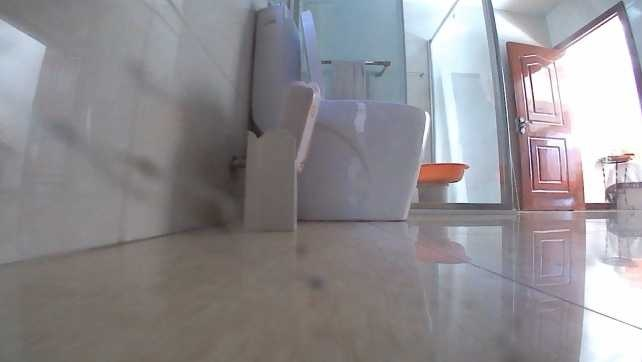door_anno: (507, 38, 588, 210)
toilet: (251, 4, 432, 225)
